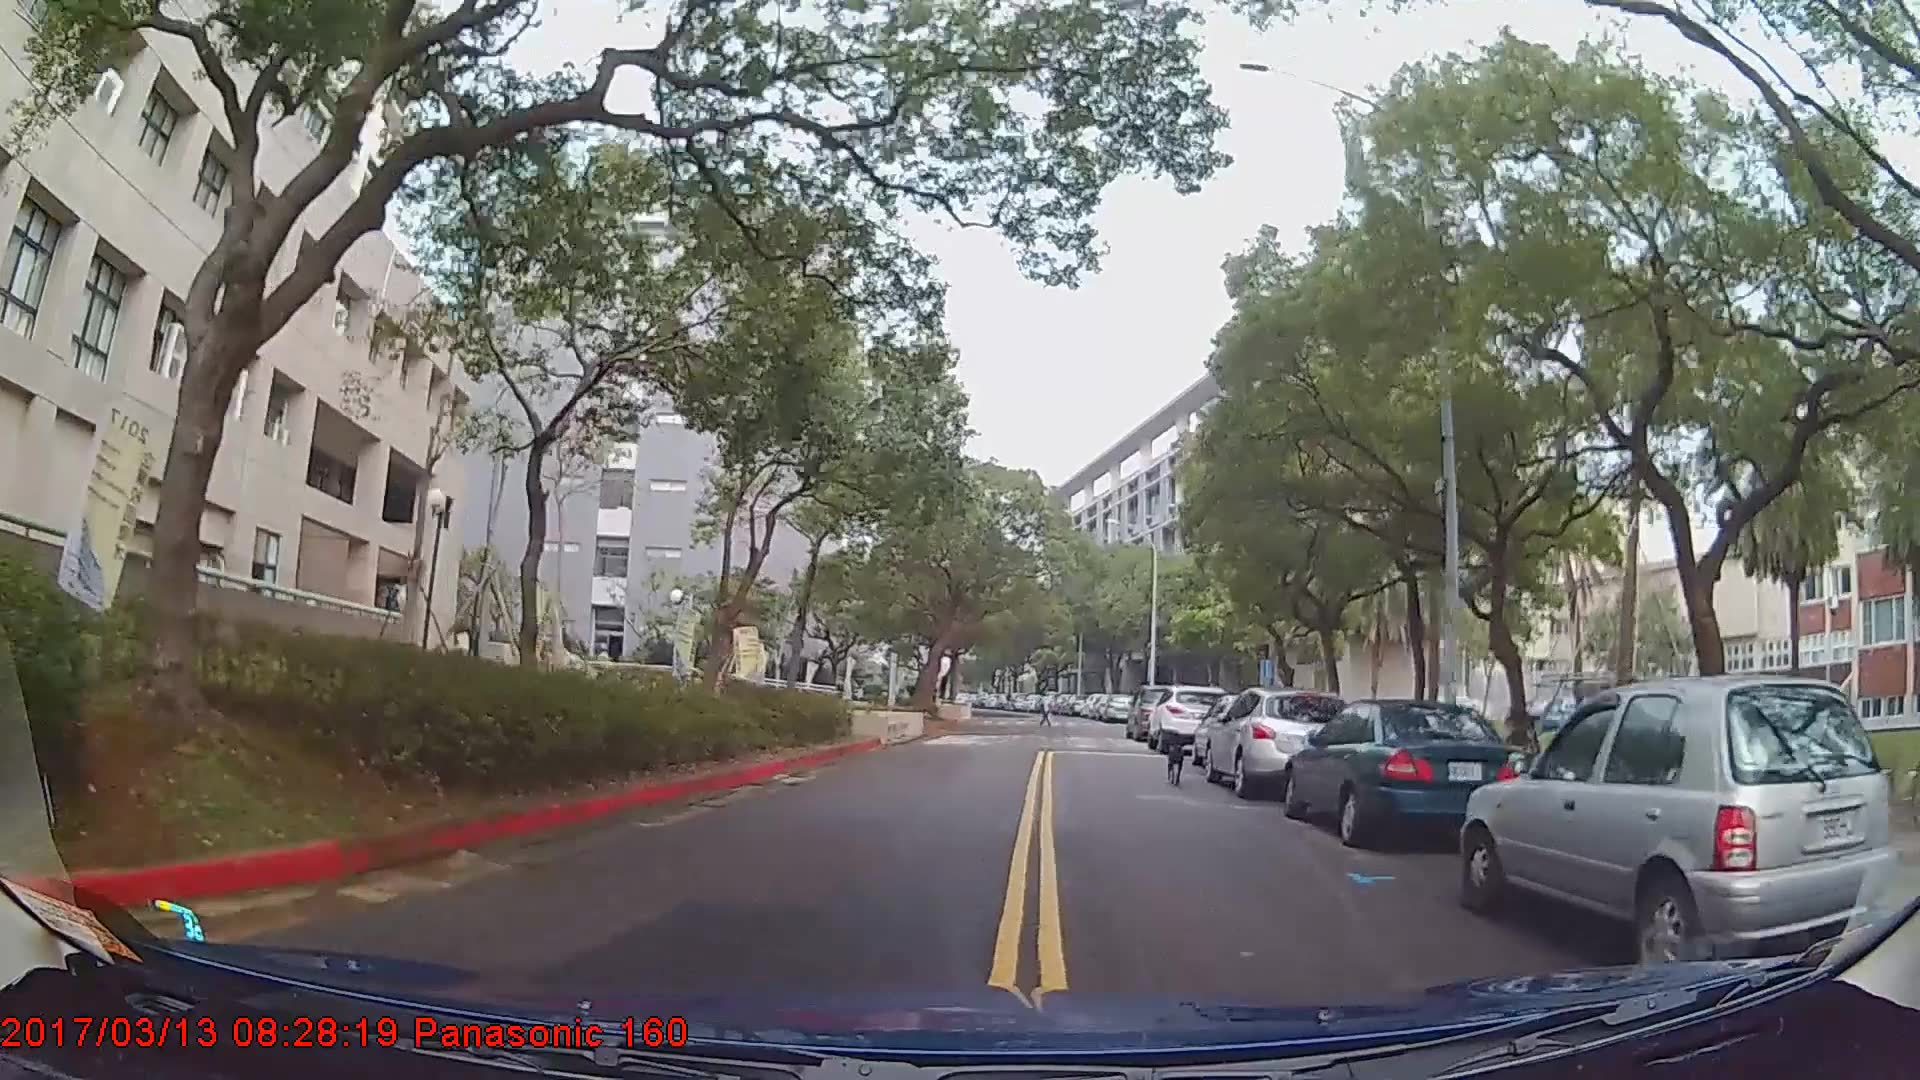pedestrian: (1038, 691, 1058, 729)
vehicle: (1461, 670, 1893, 973), (1282, 698, 1538, 851), (1201, 689, 1354, 793), (1148, 683, 1231, 752), (1100, 692, 1136, 725)
